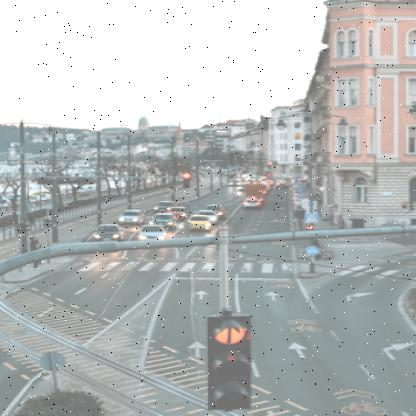trafficlight: (204, 312, 250, 408)
